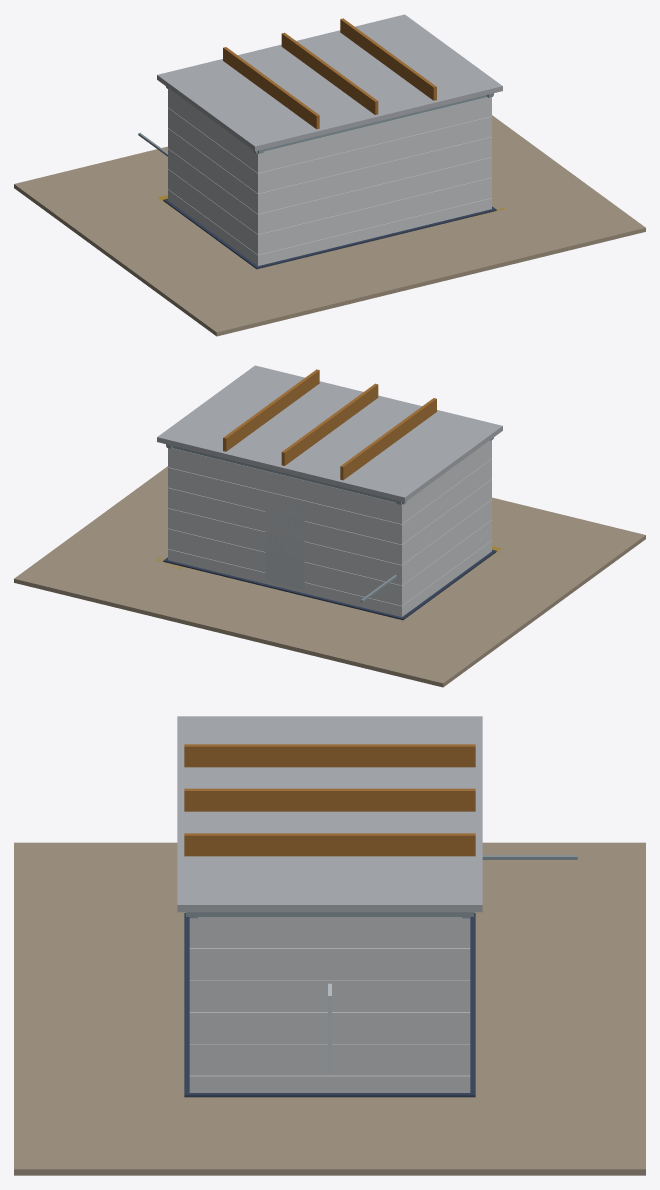
The model's file is stage_10_roof_covering.glb.
3 renders of one model, top to bottom at view 1: azimuth 30°, elevation 25°; view 2: azimuth 150°, elevation 25°; view 3: azimuth 270°, elevation 25°, orthographic. The views are drawn at different scales.
Visible parts, largest first — view 1: world; view 2: world; view 3: world.
Part boxes in pixels (box(x1,y1,x2,y2)): world: box(14, 14, 645, 336); world: box(14, 365, 645, 687); world: box(14, 716, 645, 1175).
Size of the model in its own units: 11 by 4.2 by 9.
